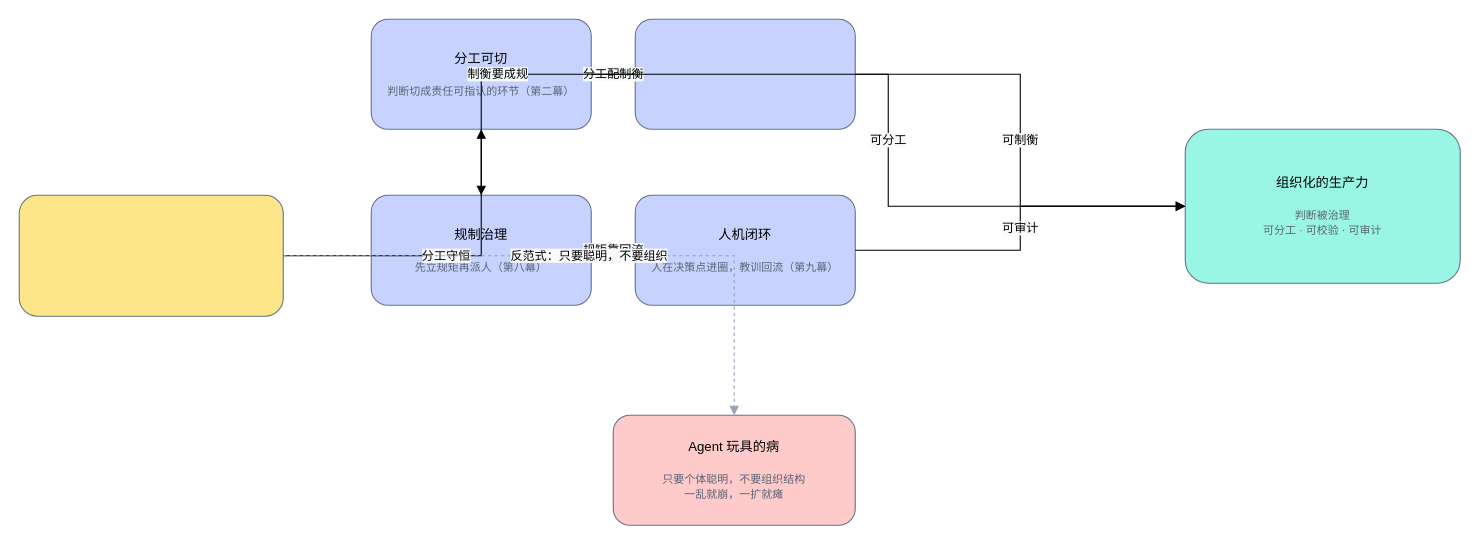
This 1480x545 diagram has some shape labels left out. The box of each missing label's shape, as (x1, y1, x2, y2) in pixels:
三权制衡 报告≠修复≠验证，时间隔离（第三幕）: (634, 18, 855, 129)
组织物种反复演化的特征 分工 · 制衡 · 问责 科层化 · 控熵闭环: (18, 194, 283, 316)
